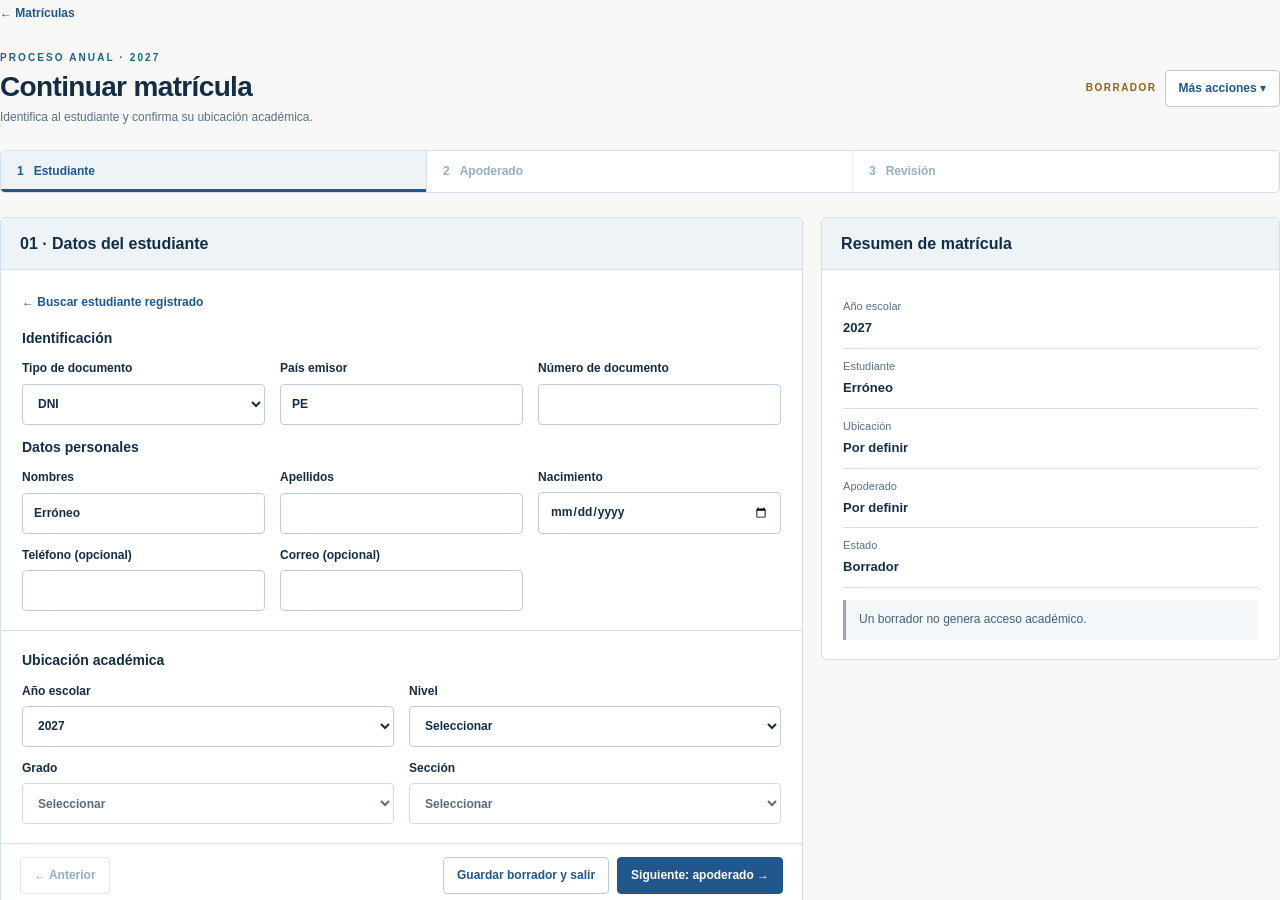
Test: Matrículas renovadas › exige DESCARTAR y conserva las demás matrículas
This screenshot has width=1280, height=900.
Click the heading "Más acciones ▾" at coordinates (1222, 88), box [1165, 70, 1279, 107]
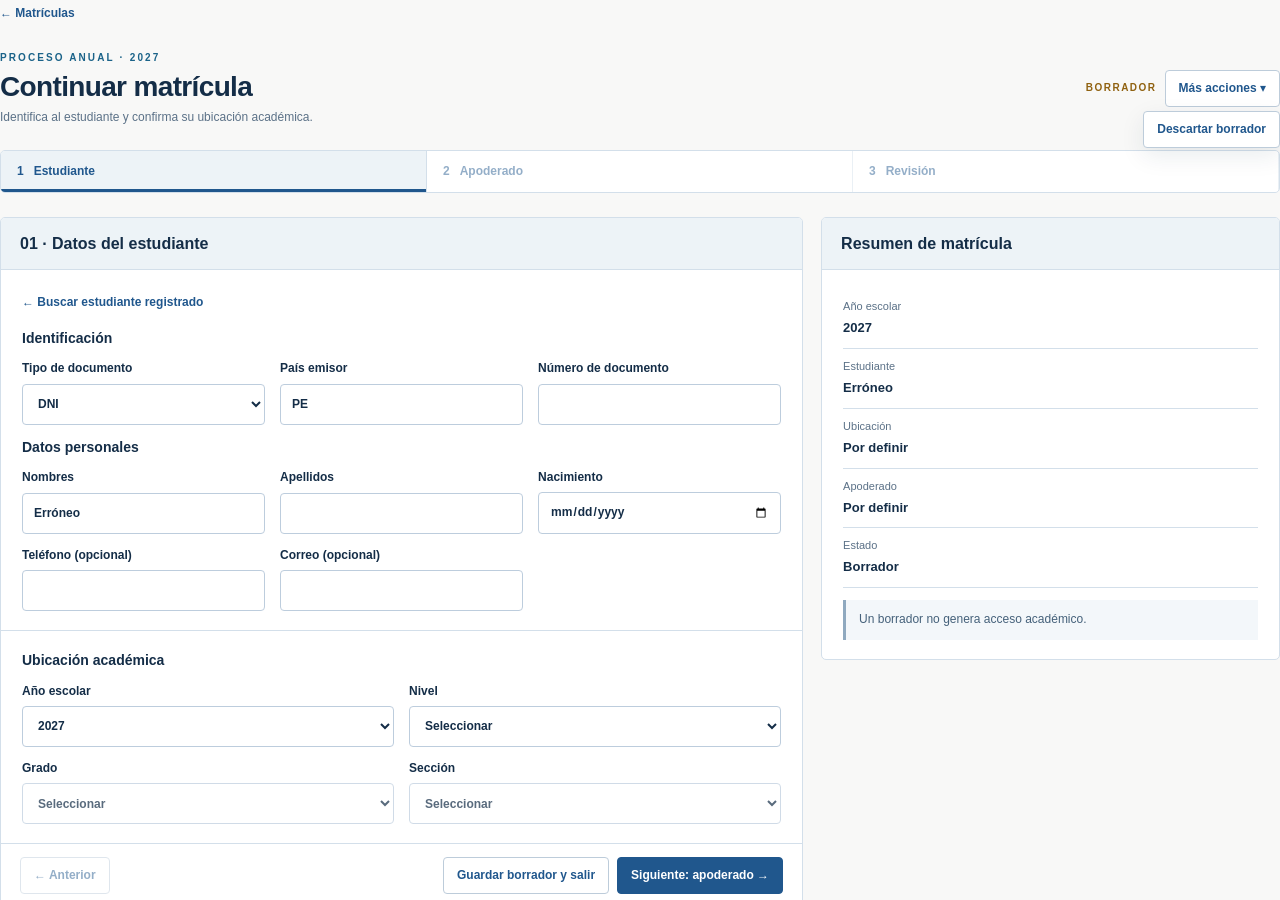
Click the button "Descartar borrador" at coordinates (1212, 129), box [1143, 111, 1279, 148]
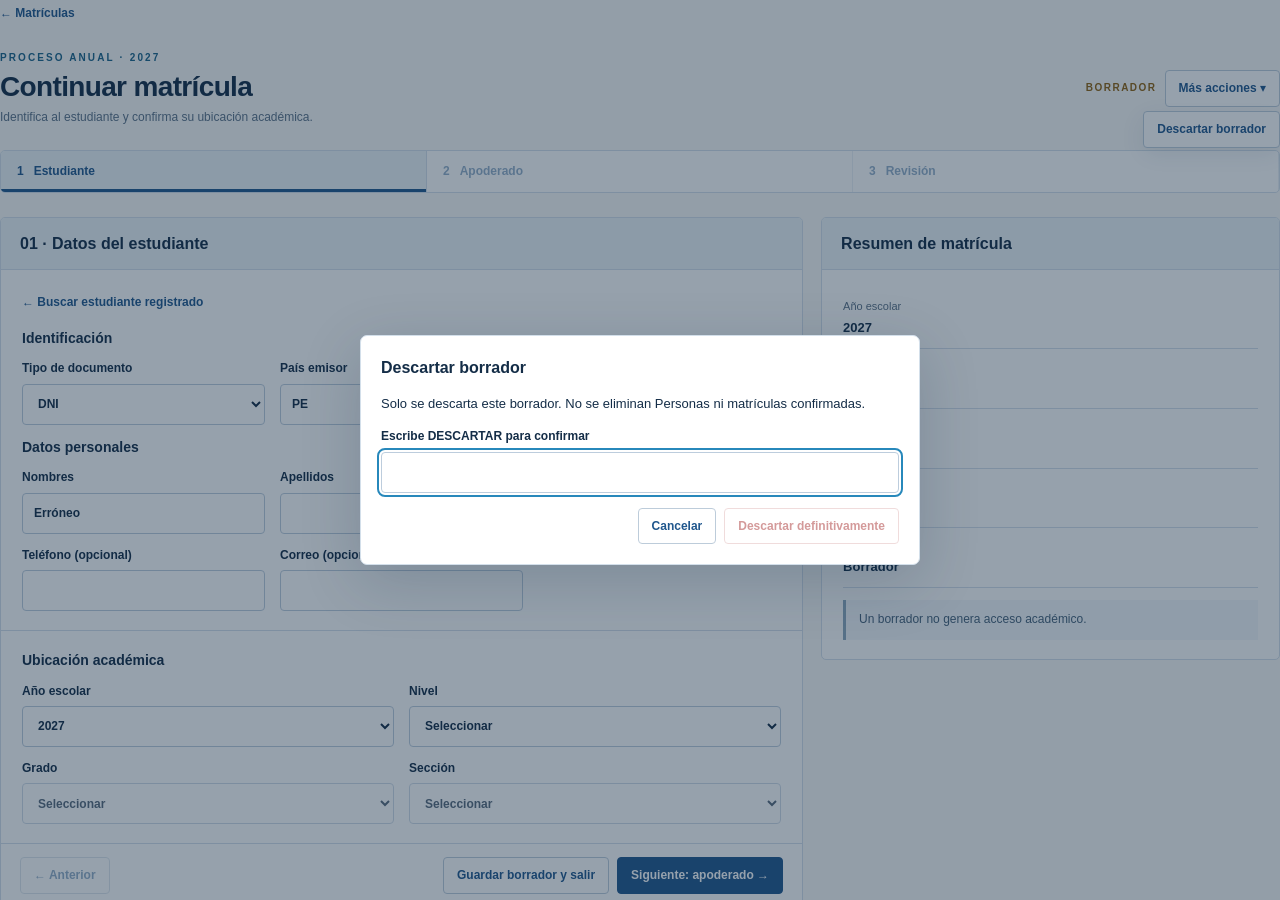
Now the button "Descartar definitivamente" is disabled, box [724, 508, 899, 544]
Type "DESCARTAR" into the field labelled "Escribe DESCARTAR para confirmar" at coordinates (640, 472), box [381, 452, 899, 493]
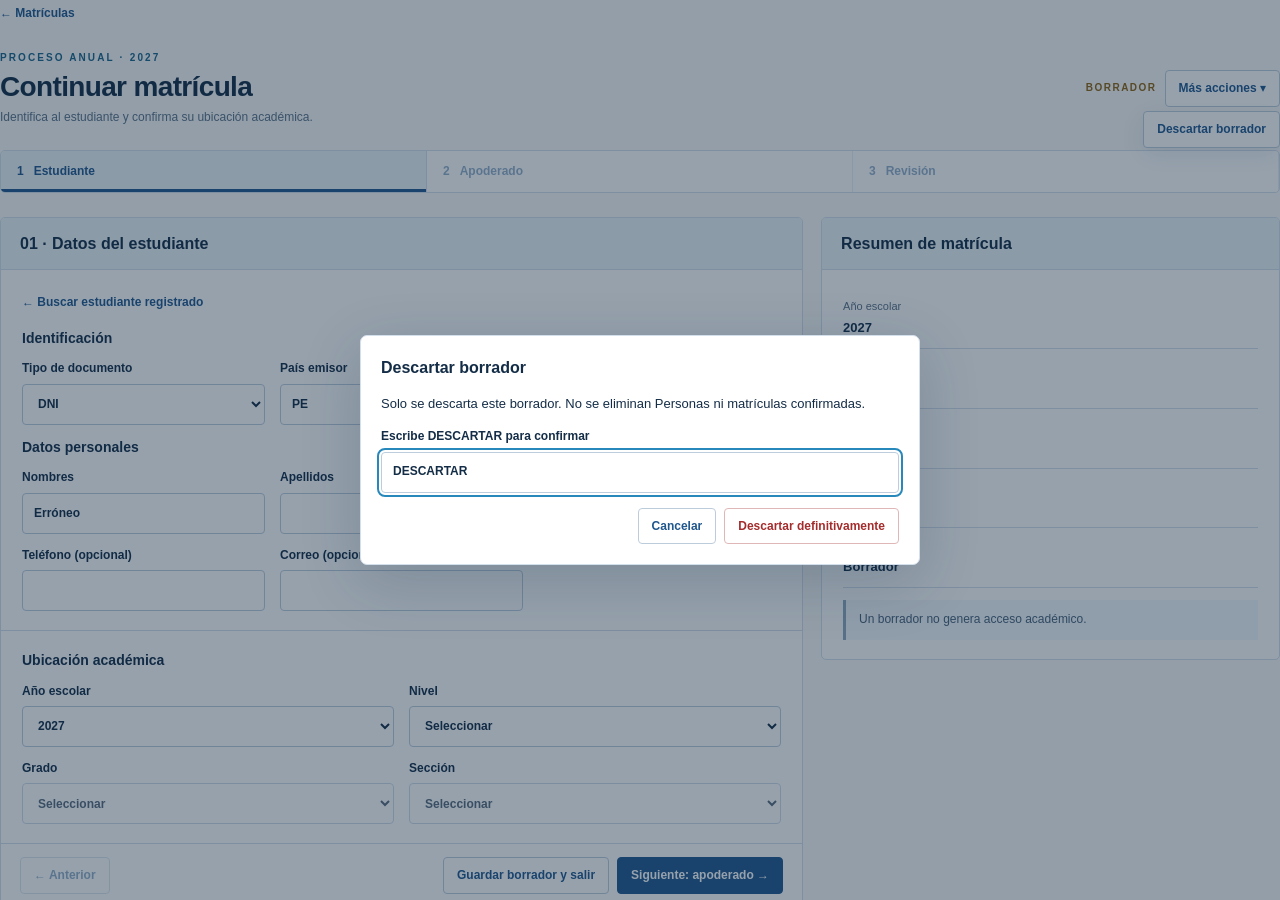
Click the button "Descartar definitivamente" at coordinates (812, 526), box [724, 508, 899, 544]
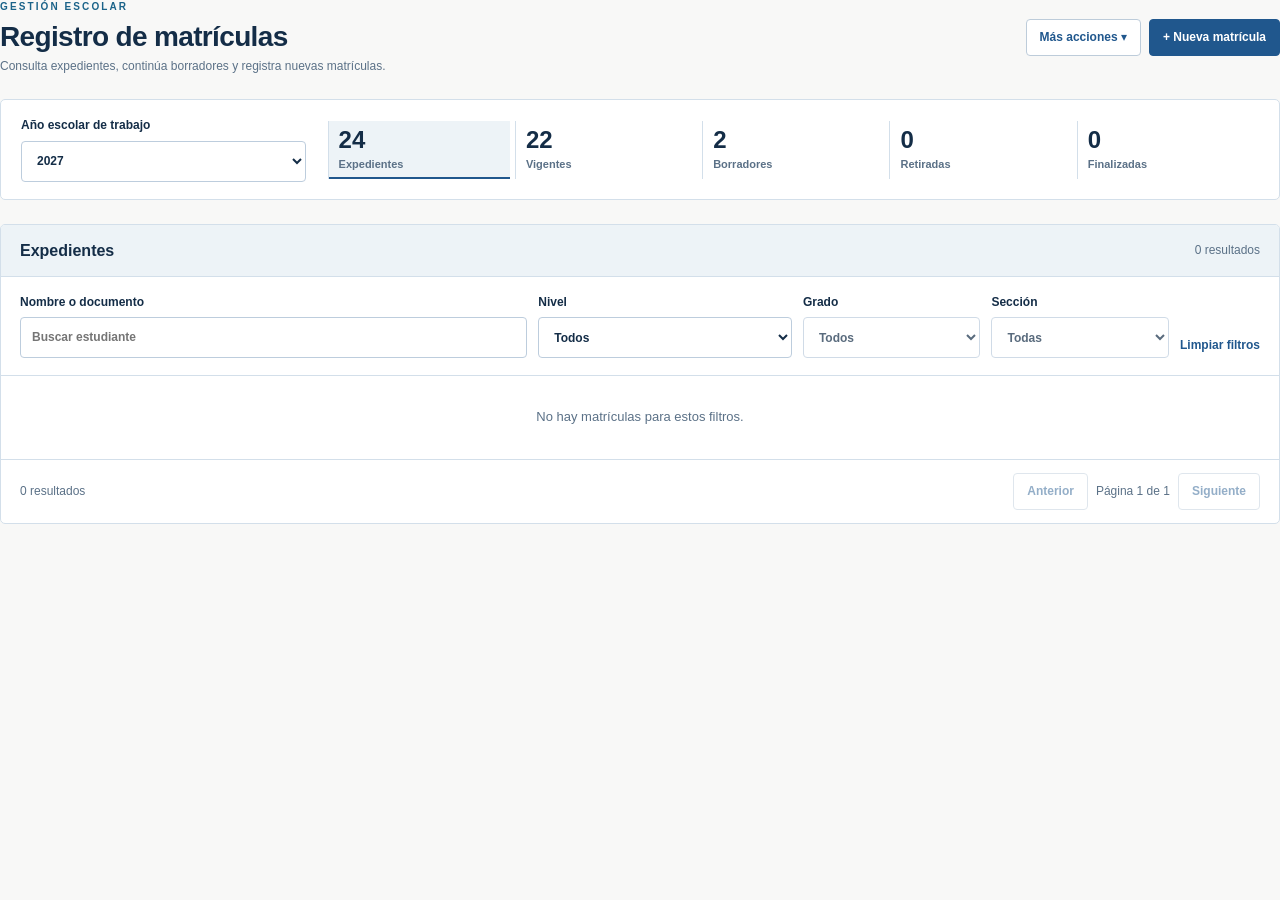
Now the heading "Expedientes" is shown, box [20, 239, 114, 262]
